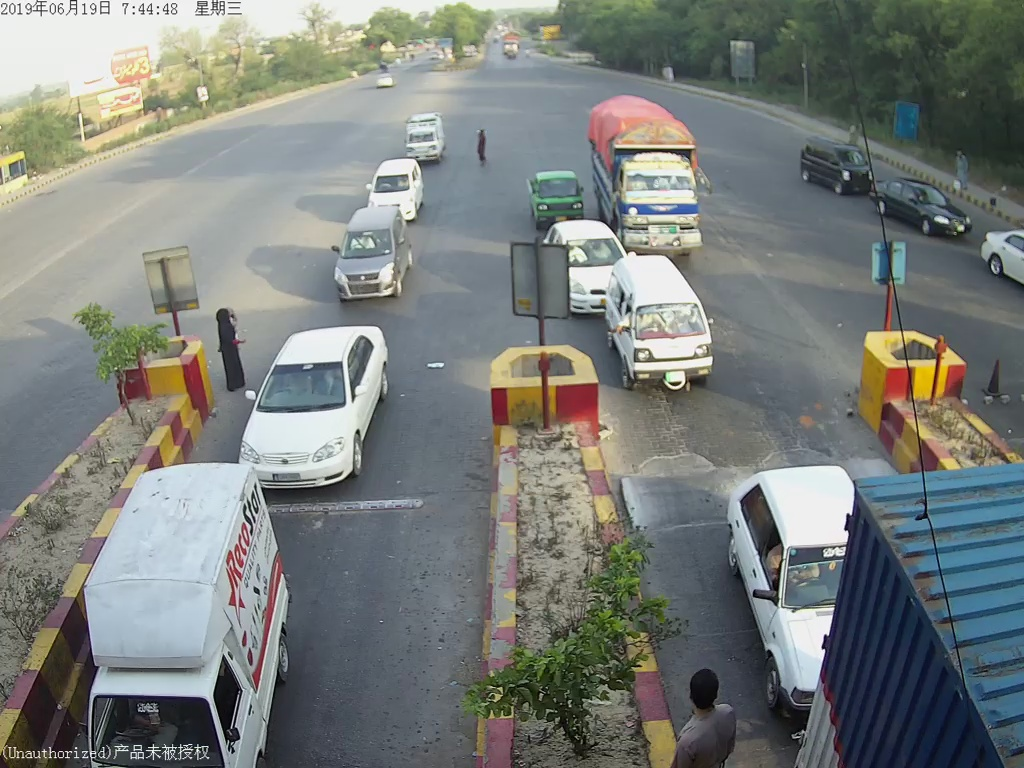Cat-1: (243, 327, 389, 490), (723, 468, 823, 698), (607, 264, 721, 393), (326, 212, 417, 308), (523, 170, 585, 220)
Cat-4: (594, 108, 709, 246)
